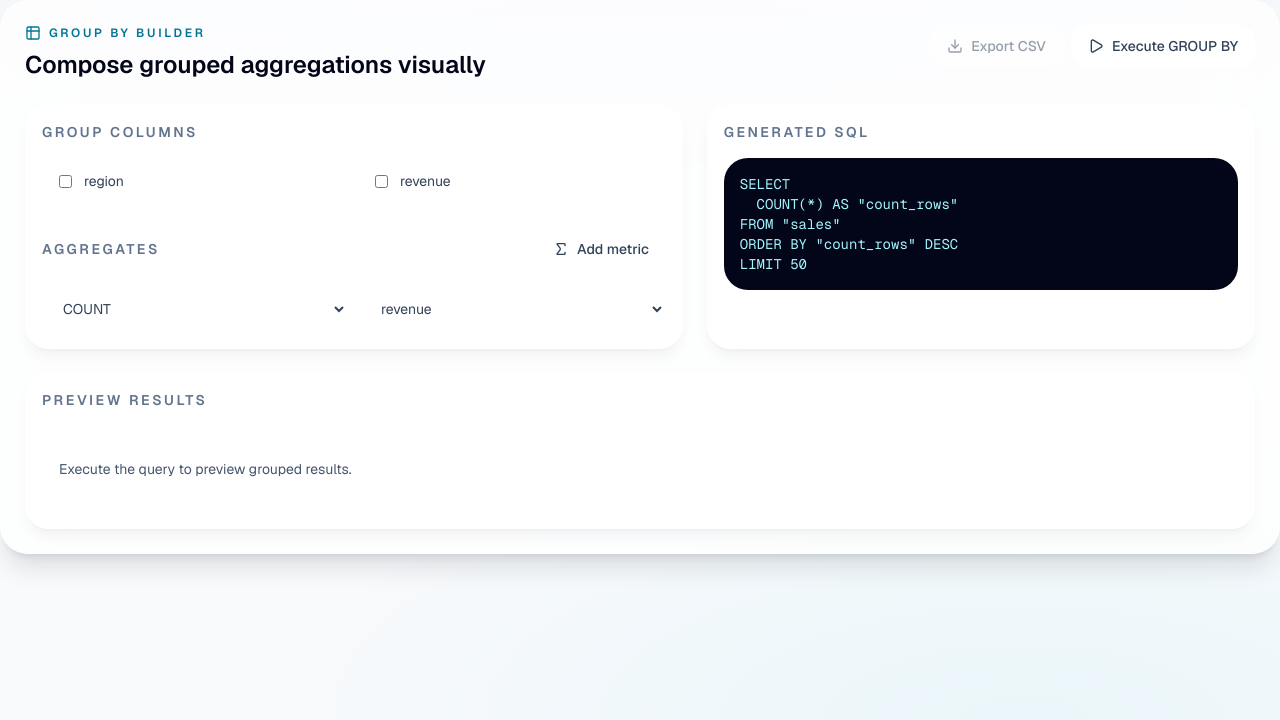
Test: GroupByBuilder › executes the grouped query and previews the result rows
Click the checkbox labelled "region" at {"x": 66, "y": 181}, box [59,174,72,188]
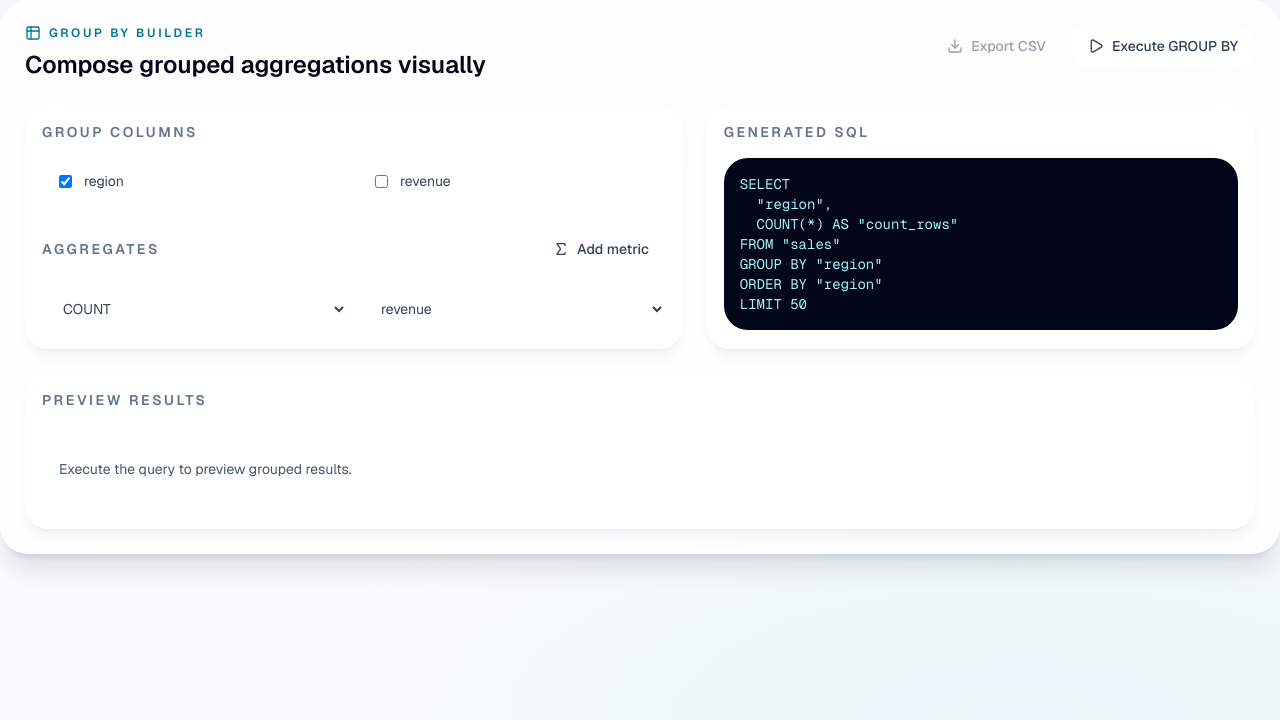
Click the button "Execute GROUP BY" at {"x": 1163, "y": 46}, box [1071,25,1255,67]
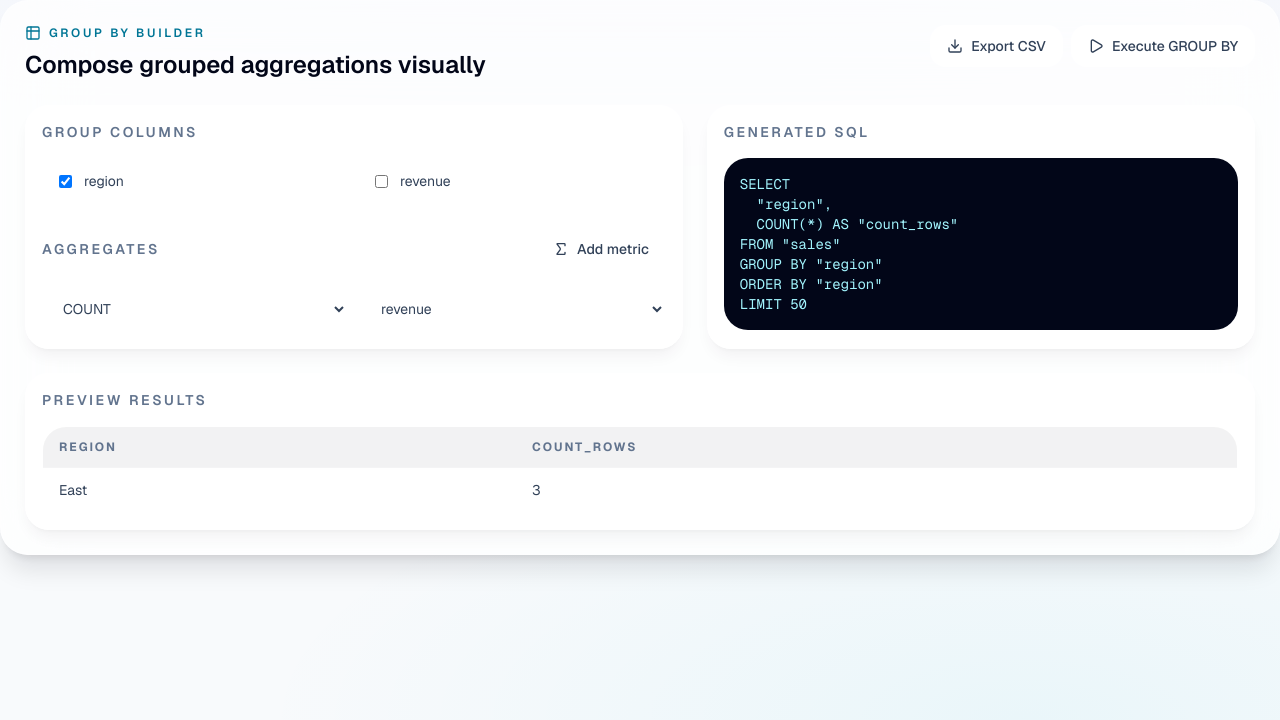
Check: the text "East" is shown, box [43,468,516,512]
Check: the text "3" is shown, box [516,468,1237,512]
